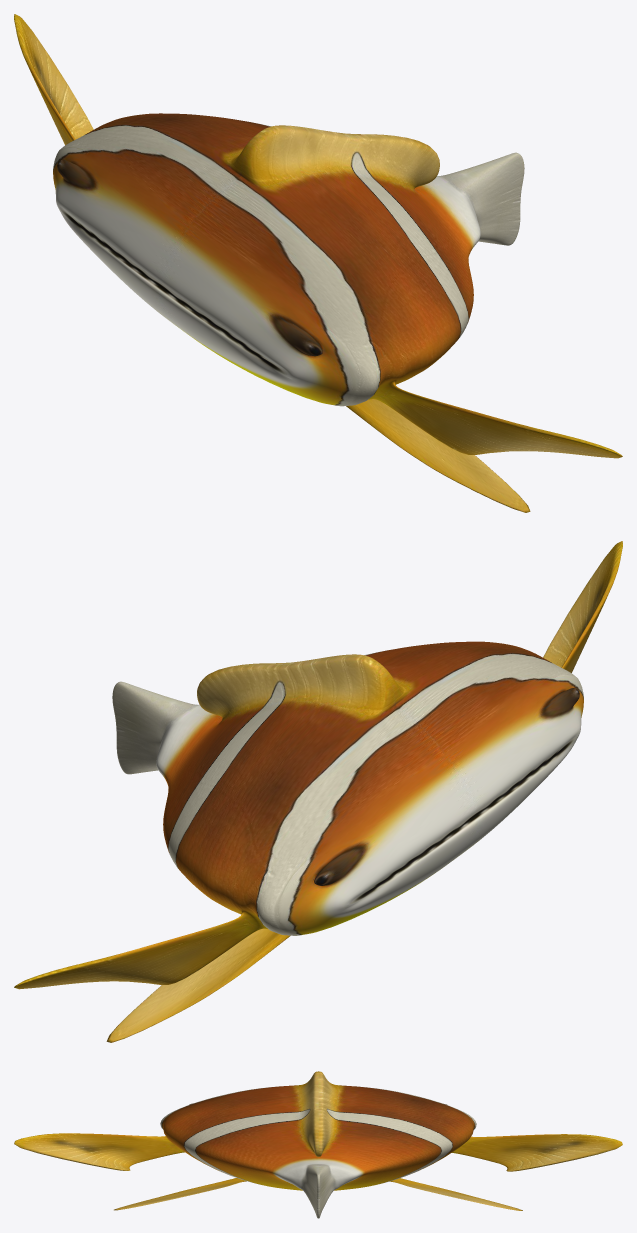
File: fishPowerUp.obj
3 renders of one model, top to bottom at view 1: azimuth 30°, elevation 25°; view 2: azimuth 150°, elevation 25°; view 3: azimuth 270°, elevation 25°, orthographic. The views are drawn at different scales.
Parts seen in each view (by area): view 1: 12265_Fish_v1_L2; view 2: 12265_Fish_v1_L2; view 3: 12265_Fish_v1_L2.
Boxes of the visible parts, x1,y1,x2,y2 form: 12265_Fish_v1_L2: [14, 14, 622, 512]; 12265_Fish_v1_L2: [14, 541, 622, 1042]; 12265_Fish_v1_L2: [14, 1071, 622, 1218].
Bounding box in the file's own units: 1.15 × 0.7488 × 3.3.
